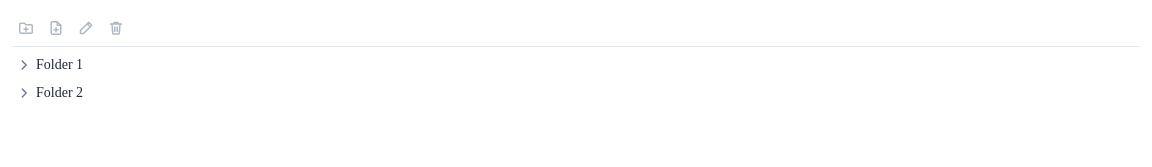
Scenario: Direactree › asks for confirmation before deleting when confirmDelete is set
Click the list item "Folder 2". click: click(50, 93)
box: [16, 85, 83, 101]
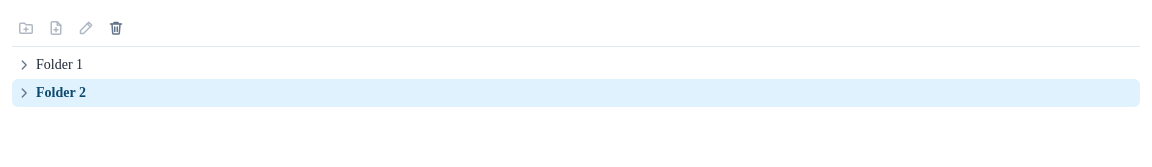
Click the button named "Delete". click: click(116, 28)
box: [102, 14, 130, 42]
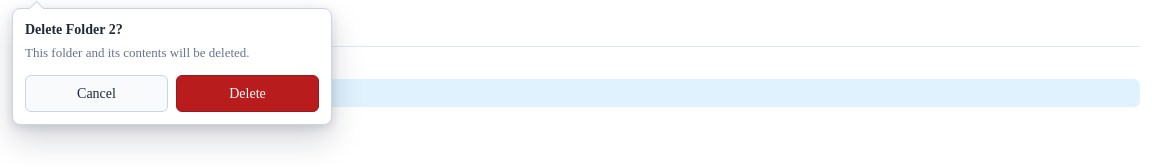
Now the element "Delete Folder 2?" shows "This folder and its contents will be deleted.", box [25, 45, 250, 60]
Now the element "Delete Folder 2?" is shown, box [12, 8, 332, 125]
Press the mouse on the element that starts with "Folder 1" at (576, 60), box [8, 8, 1144, 111]
Click the button named "Confirm delete". click: click(248, 94)
box: [176, 75, 319, 112]
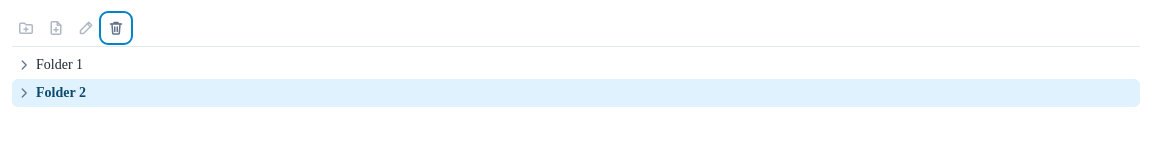
Now the text "Delete Folder 2?" is gone
